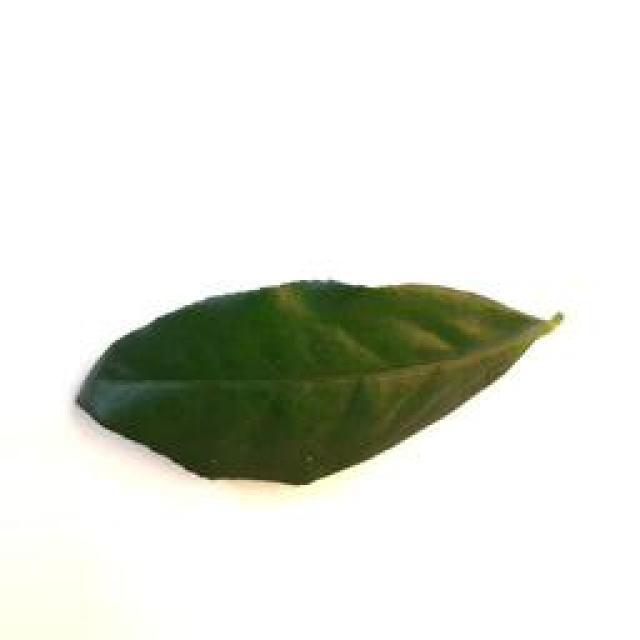Healthy: (78, 264, 574, 496)
